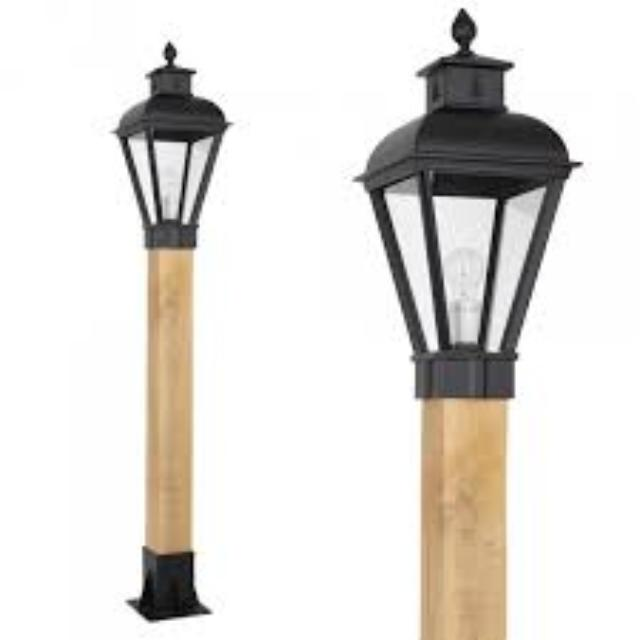Street-Lamp: (111, 32, 229, 622)
